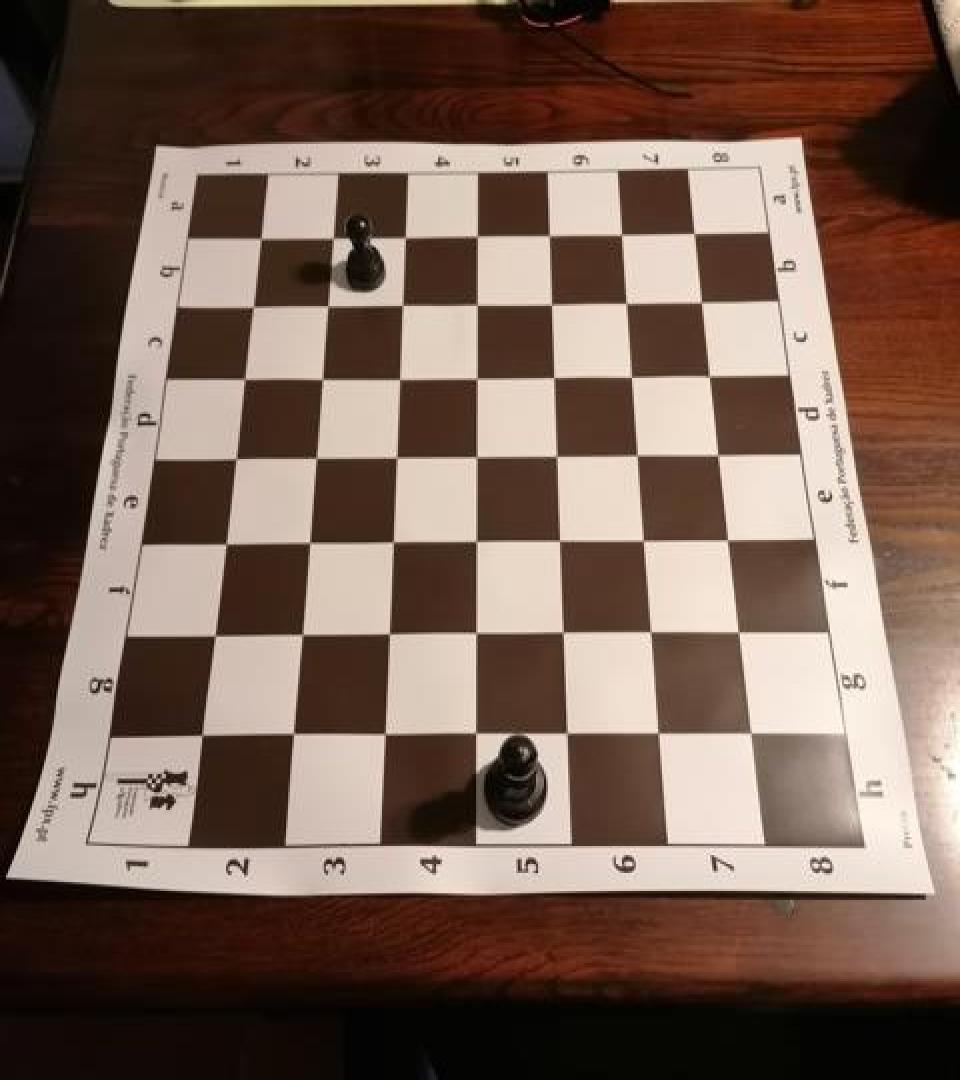xcorner: (723, 615, 755, 652), (634, 615, 666, 652), (546, 615, 578, 652), (458, 615, 490, 652), (370, 615, 402, 652), (282, 615, 314, 652), (195, 615, 227, 652), (679, 215, 711, 251), (606, 215, 638, 251), (533, 216, 565, 252), (460, 216, 492, 252), (388, 216, 420, 252), (315, 217, 347, 253), (243, 217, 275, 253), (687, 284, 719, 320), (611, 284, 643, 320), (535, 284, 567, 320), (460, 284, 492, 320), (385, 284, 417, 320), (310, 284, 342, 320), (235, 286, 267, 322), (695, 356, 727, 392), (616, 356, 648, 392), (537, 358, 569, 394), (459, 358, 491, 394), (381, 358, 413, 394), (303, 358, 335, 394), (226, 359, 258, 395), (703, 436, 735, 472), (622, 436, 654, 472), (540, 436, 572, 472), (459, 436, 491, 472), (378, 436, 410, 472), (297, 438, 329, 474), (216, 438, 248, 474), (713, 522, 745, 558), (628, 522, 660, 558), (543, 522, 575, 558), (458, 522, 490, 558), (374, 522, 406, 558), (290, 522, 322, 558), (206, 522, 238, 558), (735, 718, 767, 754), (642, 716, 674, 752), (549, 716, 581, 752), (457, 716, 489, 752), (365, 716, 397, 752), (274, 716, 306, 752), (182, 716, 214, 752)
